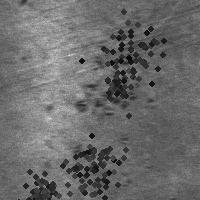rolled-in_scale: (84, 2, 182, 100), (47, 122, 135, 200), (71, 36, 141, 119), (16, 164, 66, 200), (93, 66, 133, 106)
